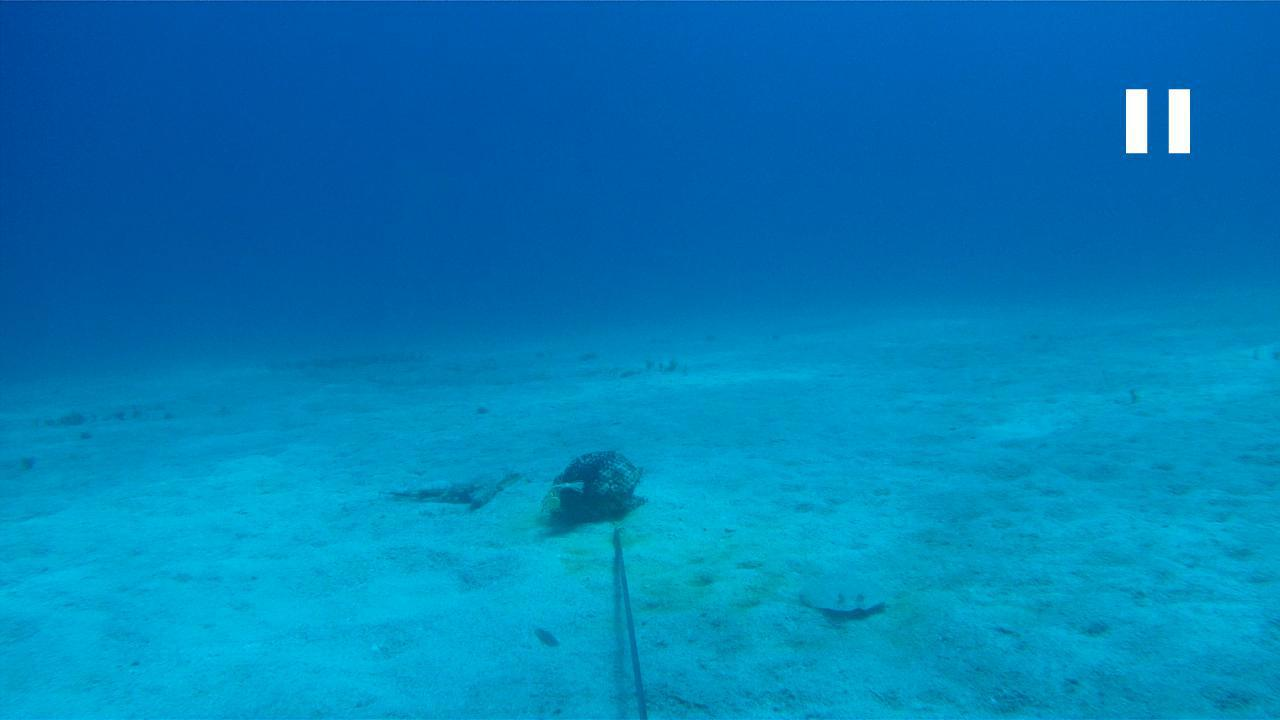bothus: (790, 570, 889, 615)
